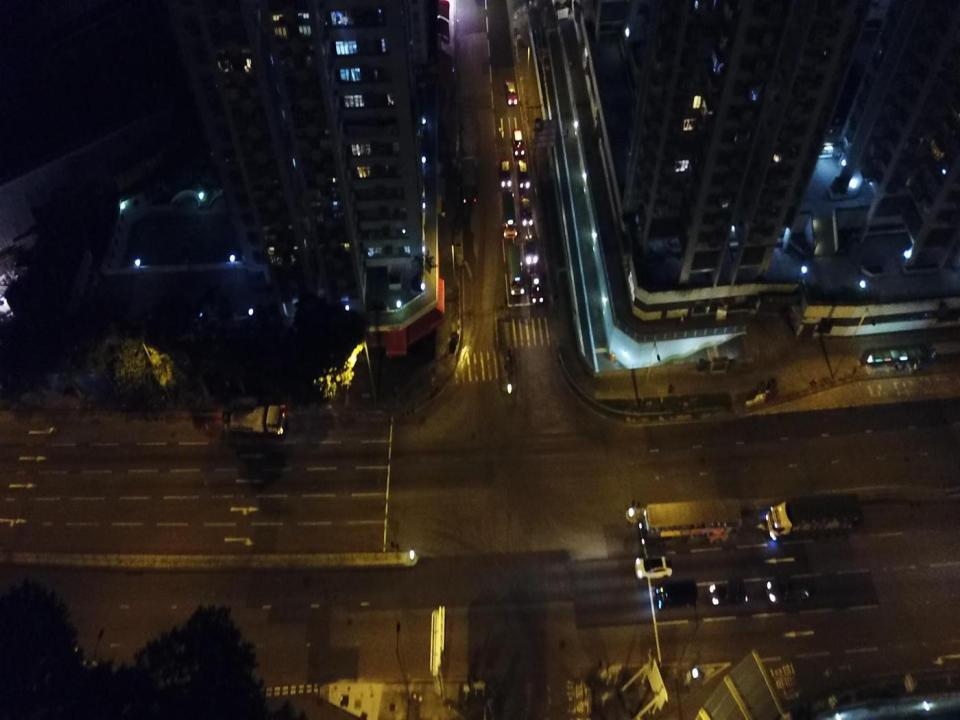bus: (638, 495, 742, 549), (507, 244, 525, 295), (500, 190, 518, 239)
car: (655, 578, 699, 610), (765, 573, 809, 604), (709, 577, 749, 606), (634, 554, 674, 578), (530, 272, 544, 304), (517, 159, 531, 189), (511, 126, 525, 156), (520, 197, 534, 226), (505, 77, 518, 105), (524, 240, 539, 264), (500, 159, 511, 188)
truck: (765, 492, 864, 541), (221, 404, 286, 437), (459, 157, 478, 206)
